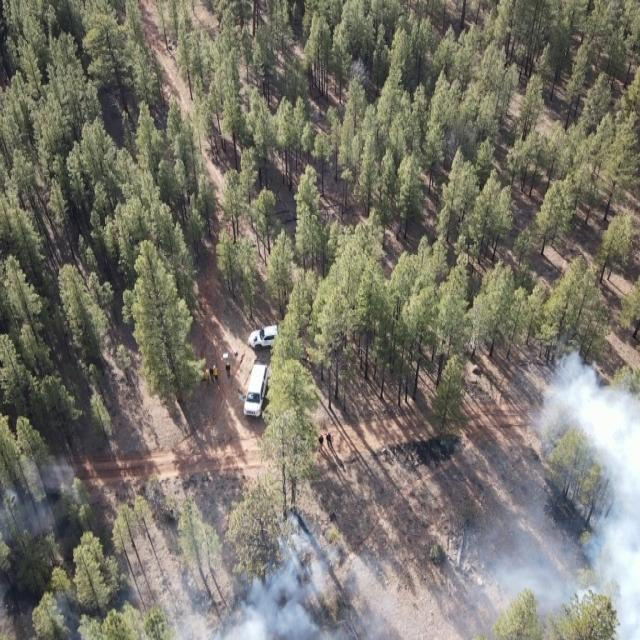smoke: (139, 512, 640, 640), (526, 349, 640, 511), (0, 449, 93, 640)
